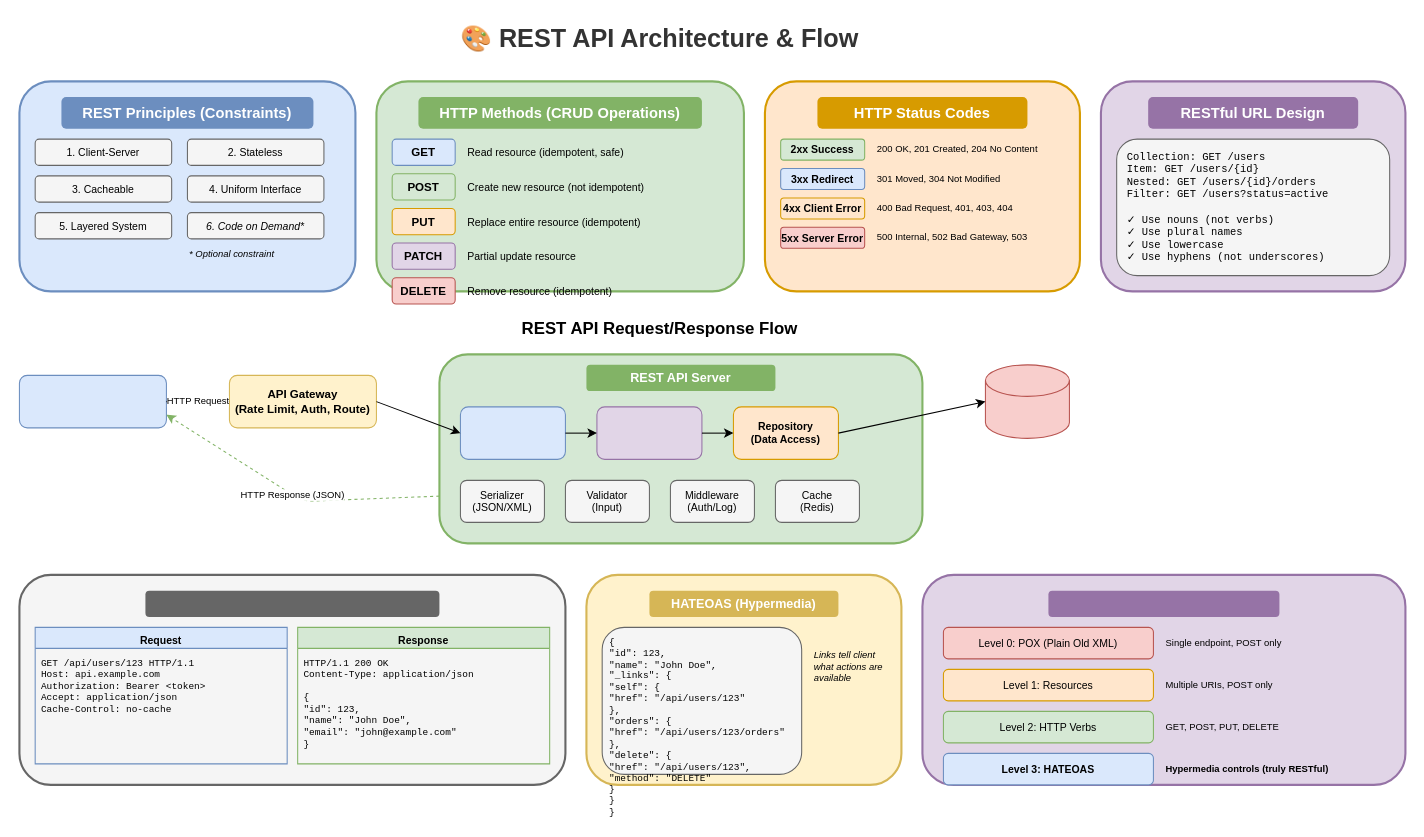
This 1424x837 diagram has some shape labels left out. The centre of each missing label's shape, as x and y in pixels:
"Client (Browser/Mobile/Service)" belongs at (92,401).
"Controller (Routes/Endpoints)" belongs at (512,432).
"Database" belongs at (1026,401).
"Example: GET /api/users/123" belongs at (292,603).
"Richardson Maturity Model" belongs at (1163,603).
"Service (Business Logic)" belongs at (649,432).
